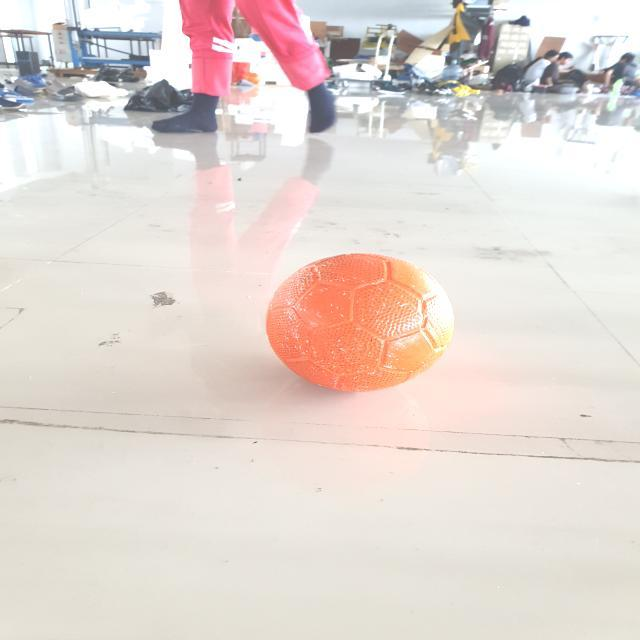bola: (258, 244, 463, 398)
